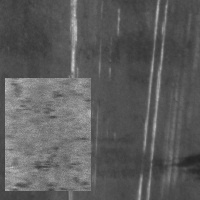inclusion: (152, 152, 198, 182)
rolled-in_scale: (5, 78, 91, 191)
scratches: (138, 1, 170, 196), (64, 1, 80, 198)
